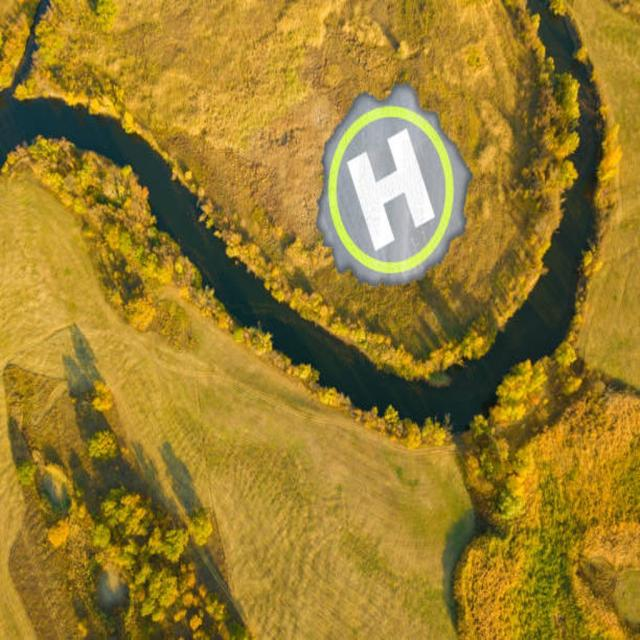helipad: (326, 104, 454, 274)
